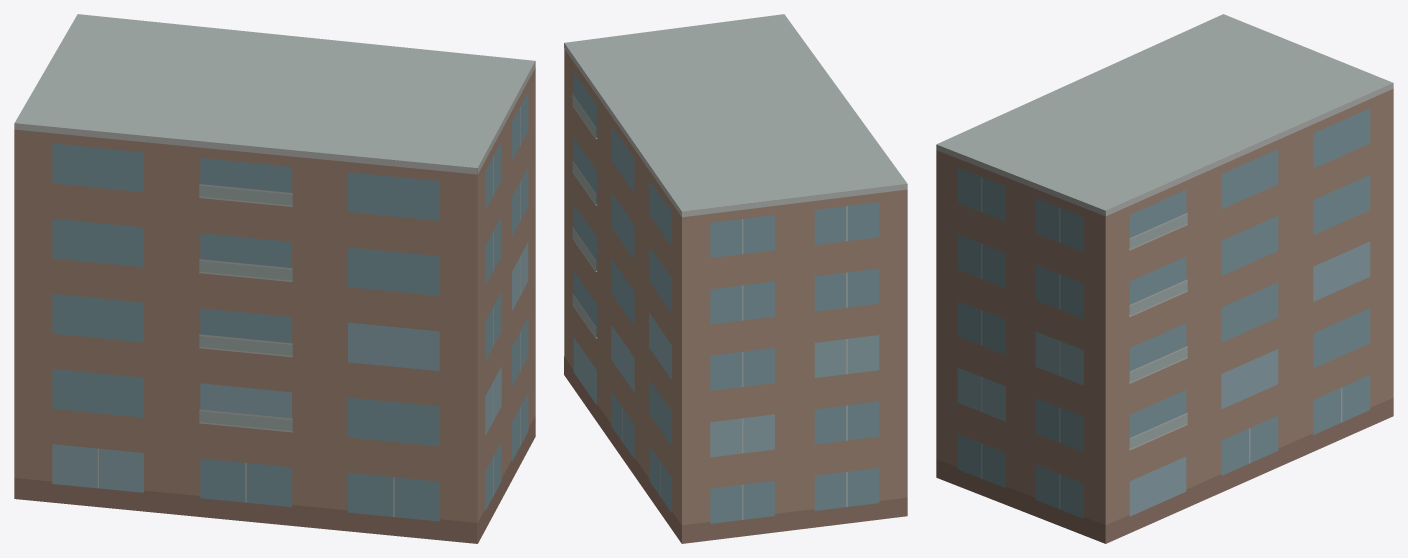
The model's file is survey-upis-33028580.glb.
3 views of the same model, side by side, from view 1: azimuth 30°, elevation 25°; view 2: azimuth 150°, elevation 25°; view 3: azimuth 270°, elevation 25° (orthographic). The views are drawn at different scales.
Parts seen in each view (by area): view 1: survey-upis-33028580.tmp; view 2: survey-upis-33028580.tmp; view 3: survey-upis-33028580.tmp.
Part boxes in pixels (x1,y1,x2,y2): survey-upis-33028580.tmp: [14, 14, 535, 543]; survey-upis-33028580.tmp: [564, 14, 907, 543]; survey-upis-33028580.tmp: [936, 14, 1393, 543].
Size of the model in its own units: 18.12 by 14.3 by 17.8.
